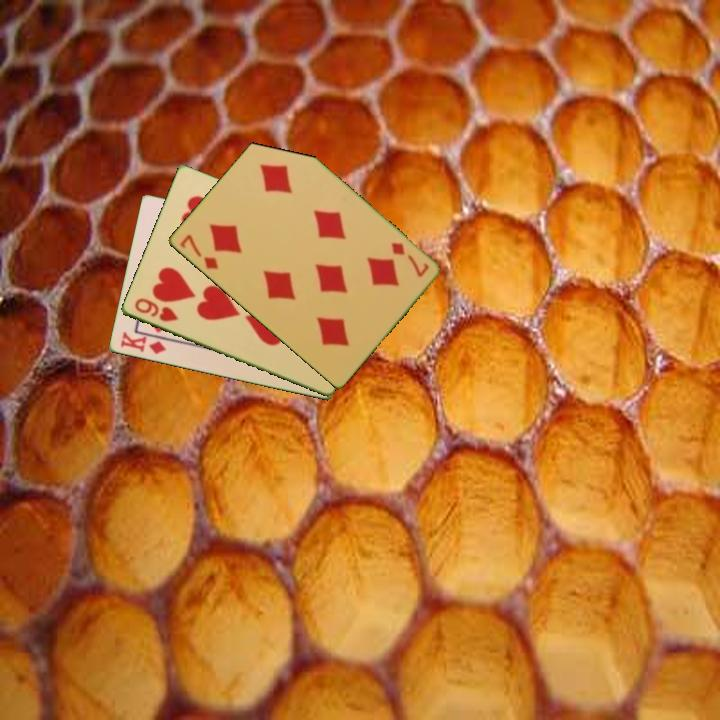7d: (176, 231, 221, 273), (387, 239, 432, 280)
9h: (131, 295, 181, 325)
Kd: (116, 328, 169, 357)
